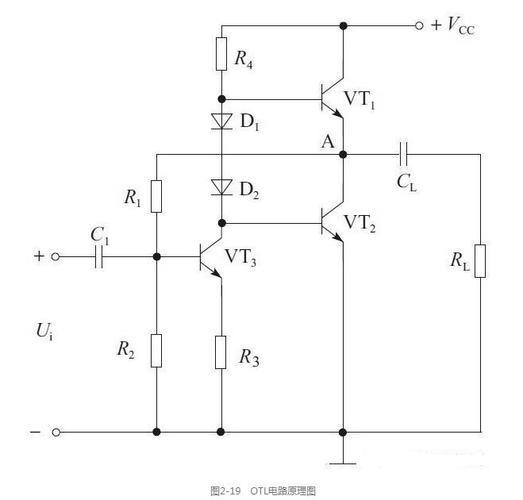cap1: (92, 242, 107, 271), (397, 138, 411, 168)
diode: (210, 109, 235, 134), (207, 177, 234, 199)
res1: (213, 33, 231, 76), (148, 177, 165, 215), (471, 241, 487, 280), (213, 333, 229, 371), (149, 333, 164, 370)
triode: (319, 67, 350, 123), (318, 193, 347, 252), (197, 233, 226, 286)
